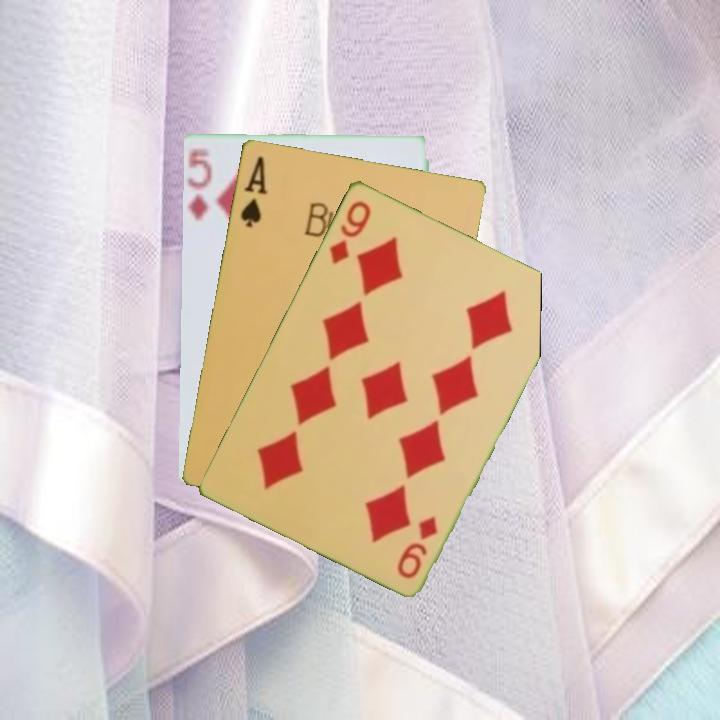5d: (185, 143, 214, 223)
9d: (325, 196, 374, 267), (393, 512, 441, 581)
As: (236, 152, 269, 230)
